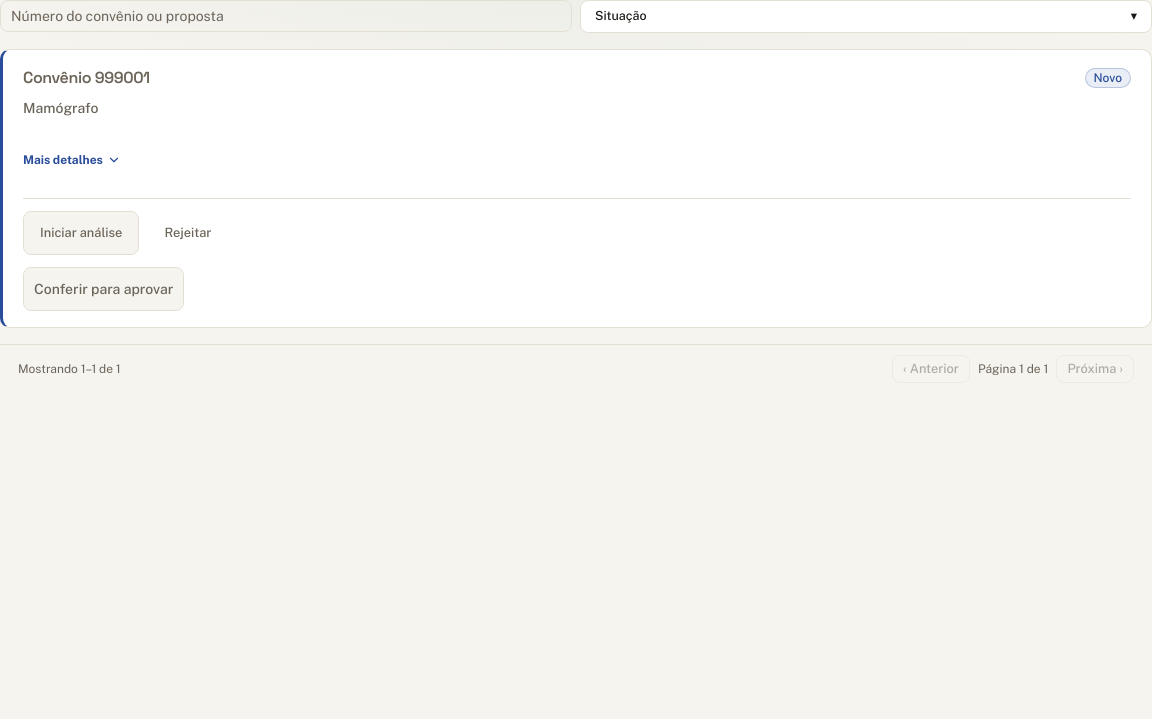
conferência e aprovação no Radar › bloqueia reenvio após conflito até nova conferência
Click the button "Conferir para aprovar" at (104, 289), box [23,267,184,311]
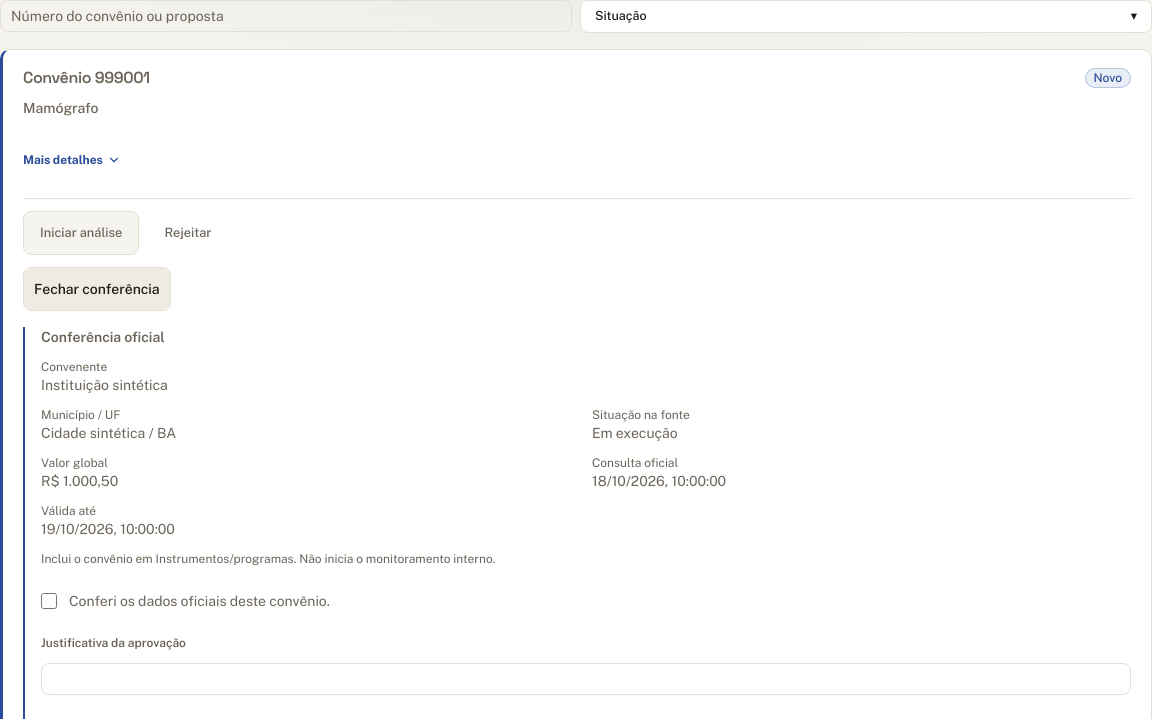
Now the field labelled "Justificativa da aprovação" is shown
Type "Aquisição conferida pela gestão" into the field labelled "Justificativa da aprovação" at (586, 679), box [41,663,1131,695]
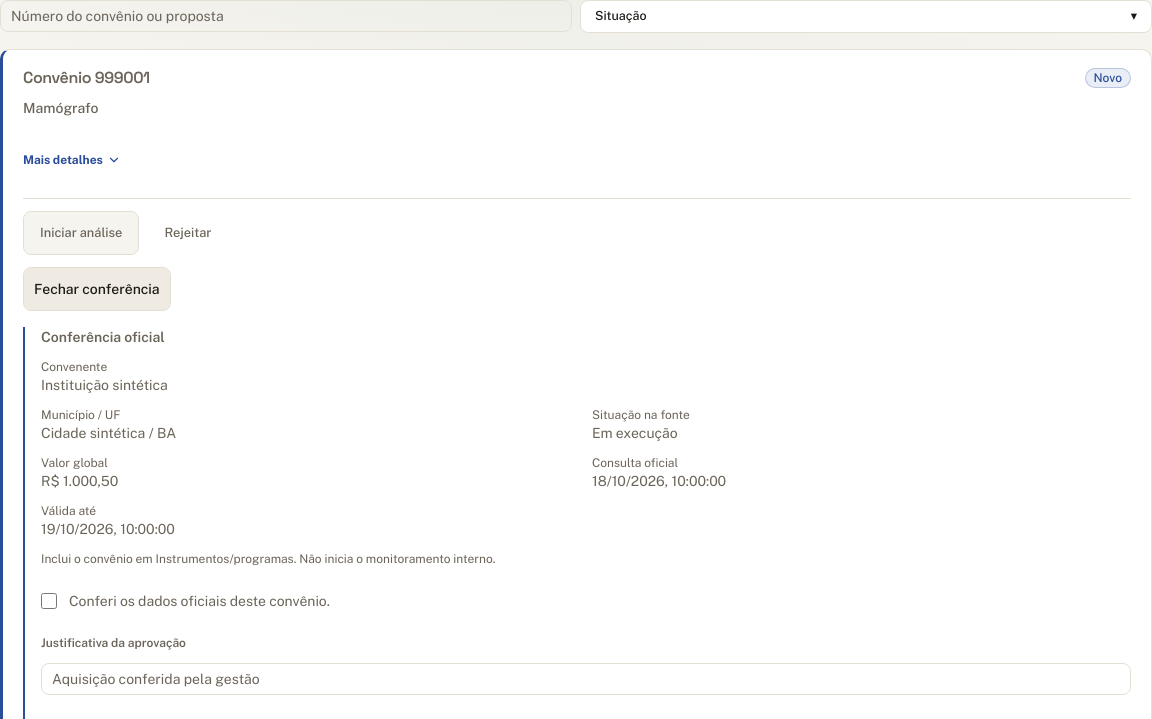
Click the checkbox labelled "Conferi os dados oficiais deste convênio." at (49, 601), box [41,593,57,609]
(page scrolled)
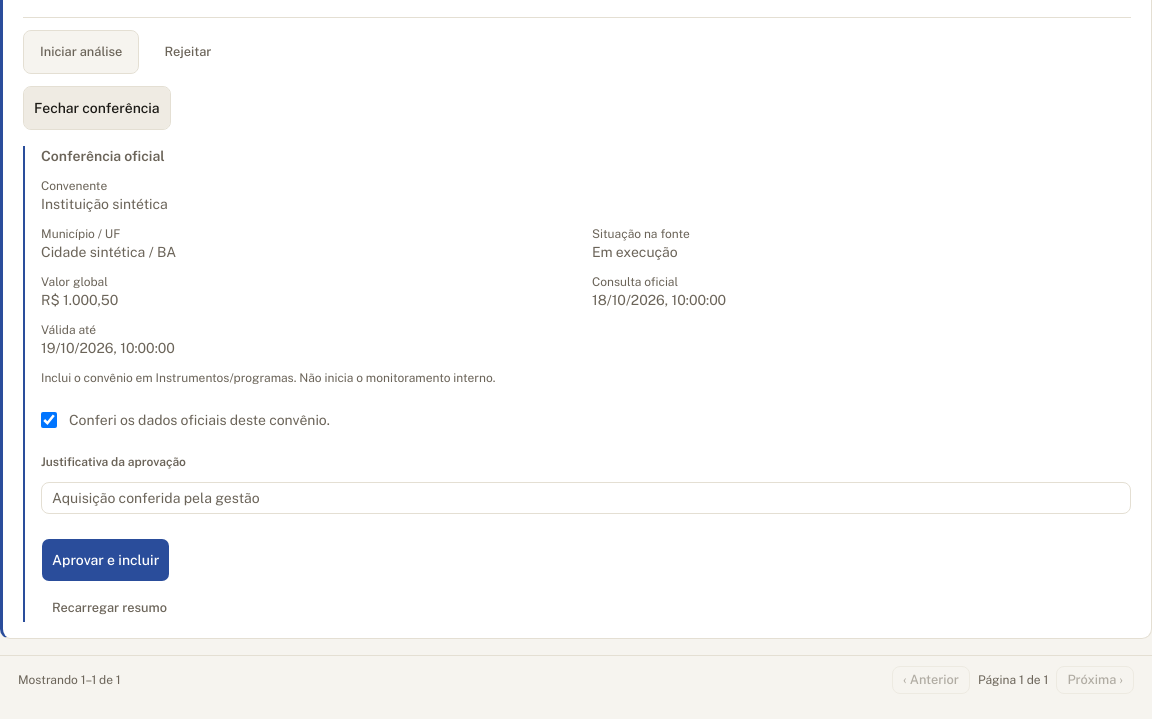
Click the button "Aprovar e incluir" at (106, 560), box [41,538,170,582]
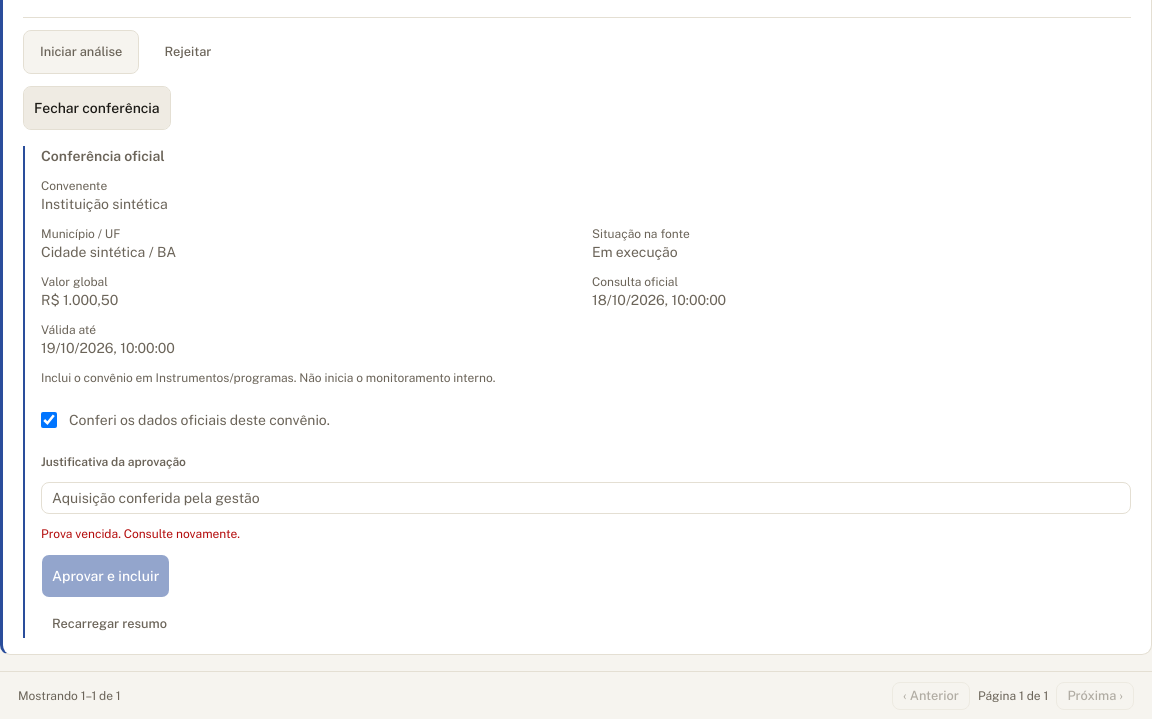
Now the text "Prova vencida. Consulte novamente." is shown, box [41,527,240,541]
Now the button "Aprovar e incluir" is disabled, box [41,554,170,598]
Click the button "Recarregar resumo" at (109, 624), box [41,610,178,638]
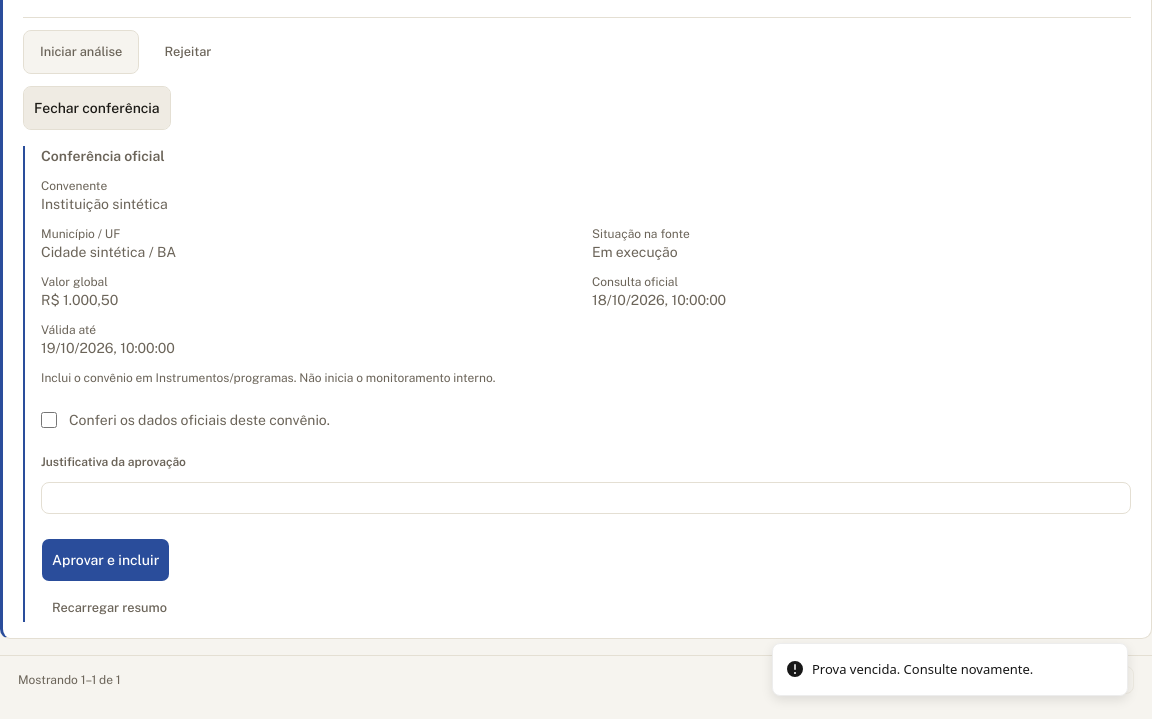
Now the button "Aprovar e incluir" is enabled, box [41,538,170,582]
Now the field labelled "Justificativa da aprovação" is empty, box [41,482,1131,514]
Now the checkbox is not checked, box [41,412,57,428]
